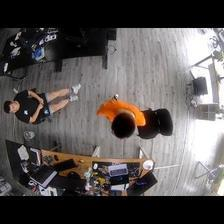normal: (3, 83, 83, 130), (98, 91, 147, 139)
